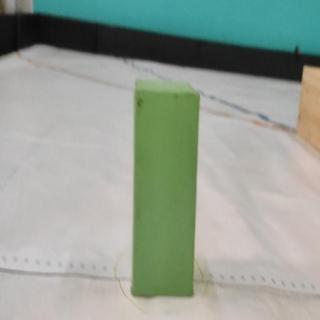greenbox: (132, 79, 201, 296)
